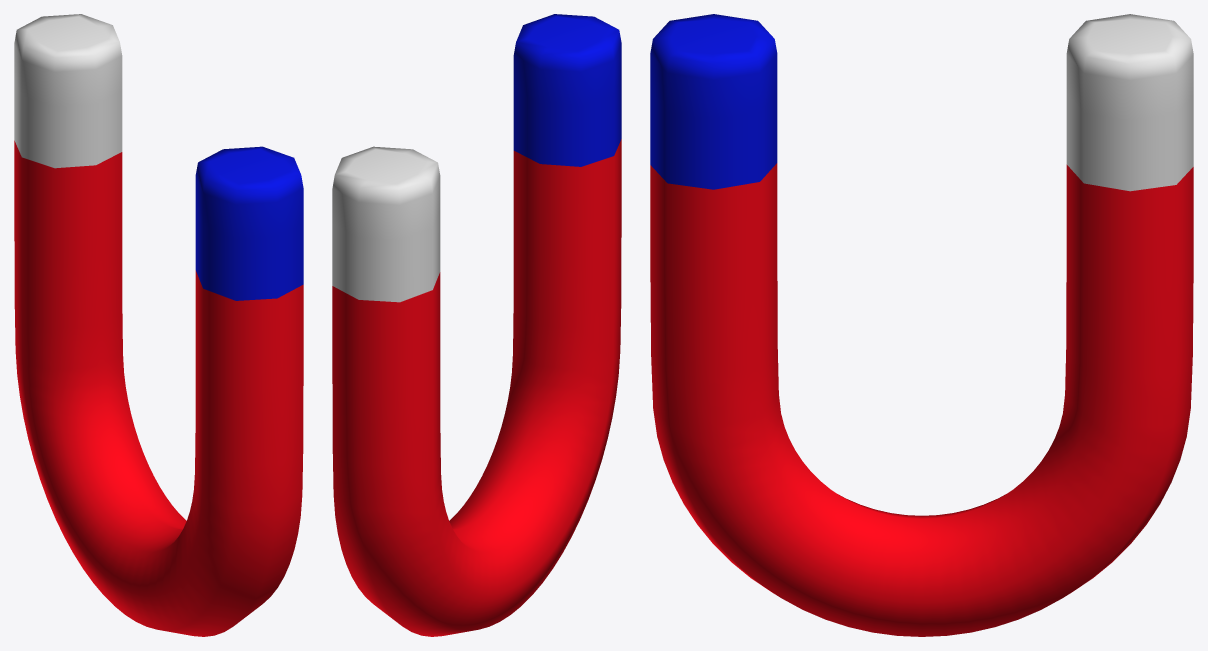
The model's file is Magnet.fbx.
The picture shows the model from 3 angles, left to right: view 1: azimuth 30°, elevation 25°; view 2: azimuth 150°, elevation 25°; view 3: azimuth 270°, elevation 25°; orthographic projection. The views are drawn at different scales.
Visible parts, largest first — view 1: Circle.002; view 2: Circle.002; view 3: Circle.002.
Boxes of the visible parts, x1=… form: Circle.002: x1=14, y1=14, x2=303, y2=636; Circle.002: x1=332, y1=14, x2=621, y2=636; Circle.002: x1=650, y1=14, x2=1193, y2=636.
Bounding box in the file's own units: 18.78 × 100 × 82.8.
